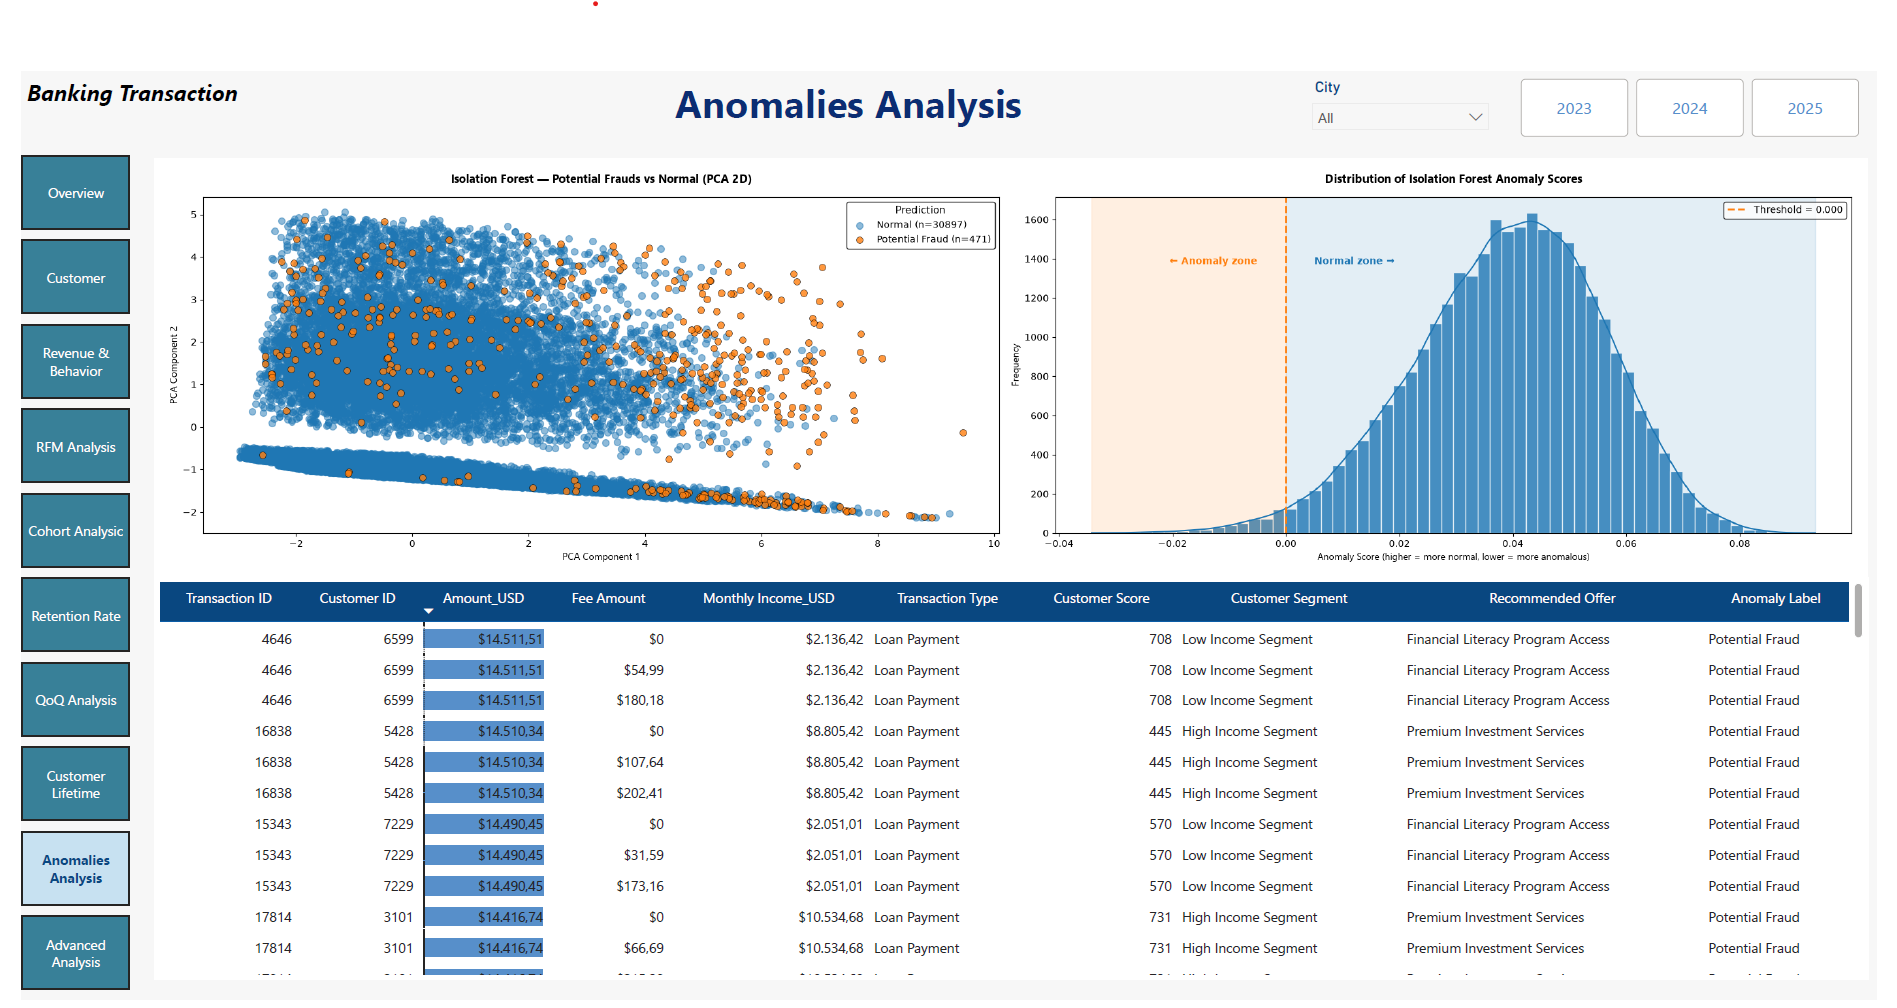

Layout of this report page (visuals, bound fields, positions):
{"tool":"powerbi","page":{"name":"Anomalies Analysis","canvas":[1800,900],"ordinal":9},"visuals":[{"type":"advancedSlicerVisual","fields":{"Values":["Dim_Date.Year"]},"box":[1450,1.7,338.3,66.7],"z":0},{"type":"slicer","fields":{"Values":["Dim_Location.BranchCity"]},"box":[1242,2,192,66],"z":1000},{"type":"pythonVisual","fields":{"Values":["Fact_Transaction.Channel","Fact_Transaction.CustomerScore","Fact_Transaction.CustomerSegment","Fact_Transaction.Amount_USD","Fact_Transaction.RecommendedOffer","Fact_Transaction.TransactionType","Dim_Product.ProductCategory","Dim_Product.ProductSubcategory","Dim_Location.BranchCity","Fact_Transaction.TransactionDate","RFM.SegmentCustomerRFM","Fact_Transaction.MonthlyIncome_USD"]},"box":[128.9,84.3,1661.9,406.4],"z":2000},{"type":"tableEx","fields":{"Values":["Fact_Transaction.TransactionID","Fact_Transaction.CustomerID","Fact_Transaction.Amount_USD","Fact_Fee.FeeAmount","Fact_Transaction.MonthlyIncome_USD","Fact_Transaction.TransactionType","Fact_Transaction.CustomerScore","Fact_Transaction.CustomerSegment","Fact_Transaction.RecommendedOffer","Fact_Anomaly.AnomalyLabel"]},"box":[129.2,490.6,1663,390.8],"z":3000},{"type":"textbox","box":[629.3,0,489.7,67.2],"z":5000},{"type":"textbox","box":[0,0,300,67.2],"z":6000},{"type":"pageNavigator","box":[0,81,105.2,819],"z":6001}]}

Visuals, with their boxes on the page's 1800x900 design canvas (x1, y1, x2, y2). These are canvas units, not pixel positions in the 1897x1008 screenshot, which may show the page scaled, cropped or inside an application window:
advancedSlicerVisual - Dim_Date.Year: x1=1450, y1=2, x2=1788, y2=68
slicer - Dim_Location.BranchCity: x1=1242, y1=2, x2=1434, y2=68
pythonVisual - Fact_Transaction.Channel x Fact_Transaction.CustomerScore: x1=129, y1=84, x2=1791, y2=491
tableEx - Fact_Transaction.TransactionID x Fact_Transaction.CustomerID: x1=129, y1=491, x2=1792, y2=881
textbox: x1=629, y1=0, x2=1119, y2=67
textbox: x1=0, y1=0, x2=300, y2=67
pageNavigator: x1=0, y1=81, x2=105, y2=900
